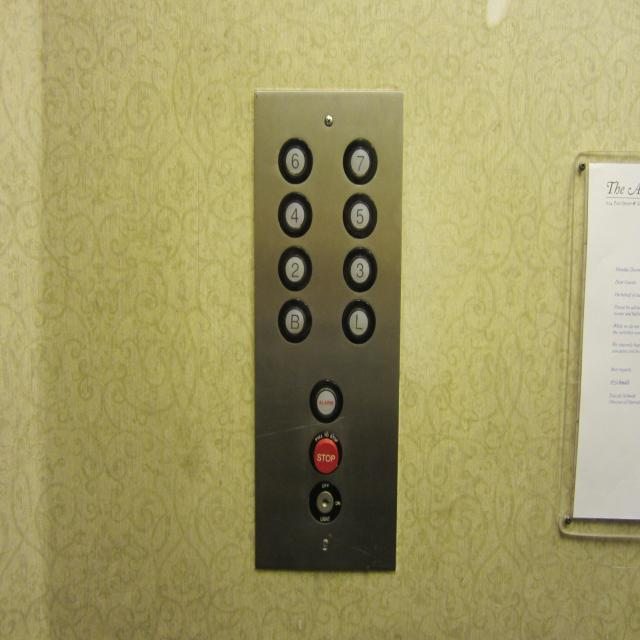2: (274, 242, 315, 294)
3: (338, 244, 379, 295)
4: (274, 188, 315, 240)
5: (339, 189, 380, 240)
6: (275, 134, 316, 186)
7: (338, 135, 381, 187)
B: (273, 294, 315, 347)
L: (338, 297, 378, 348)
keyhole: (304, 477, 344, 528)
text_alarm bell: (306, 375, 345, 426)
text_stop: (306, 428, 346, 479)
